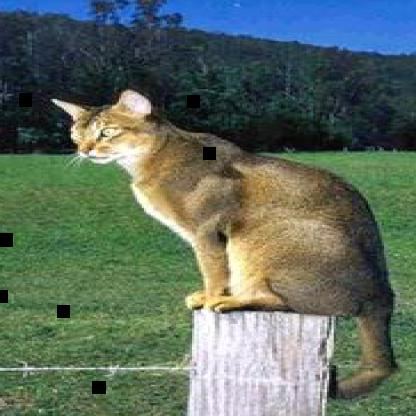cat: (50, 89, 398, 402)
